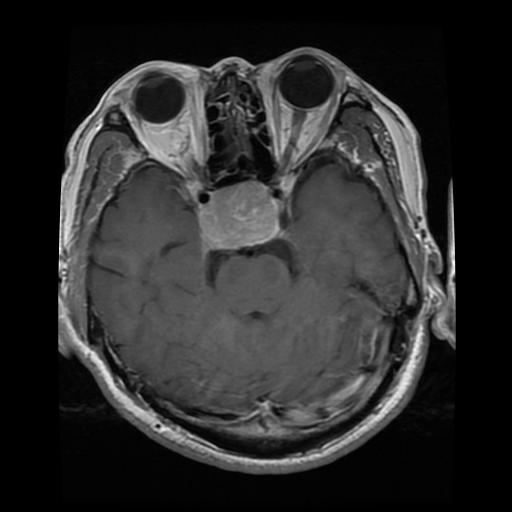Pituirity_tumour: (200, 184, 279, 247)
